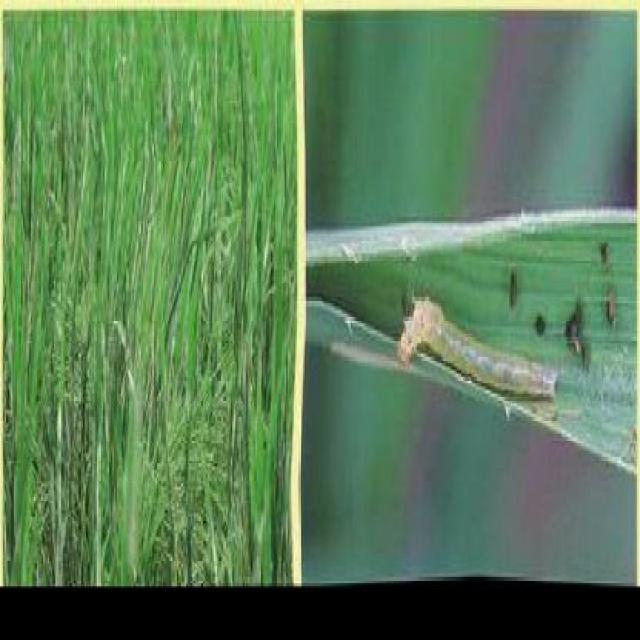leaf-folder: (389, 262, 574, 458)
